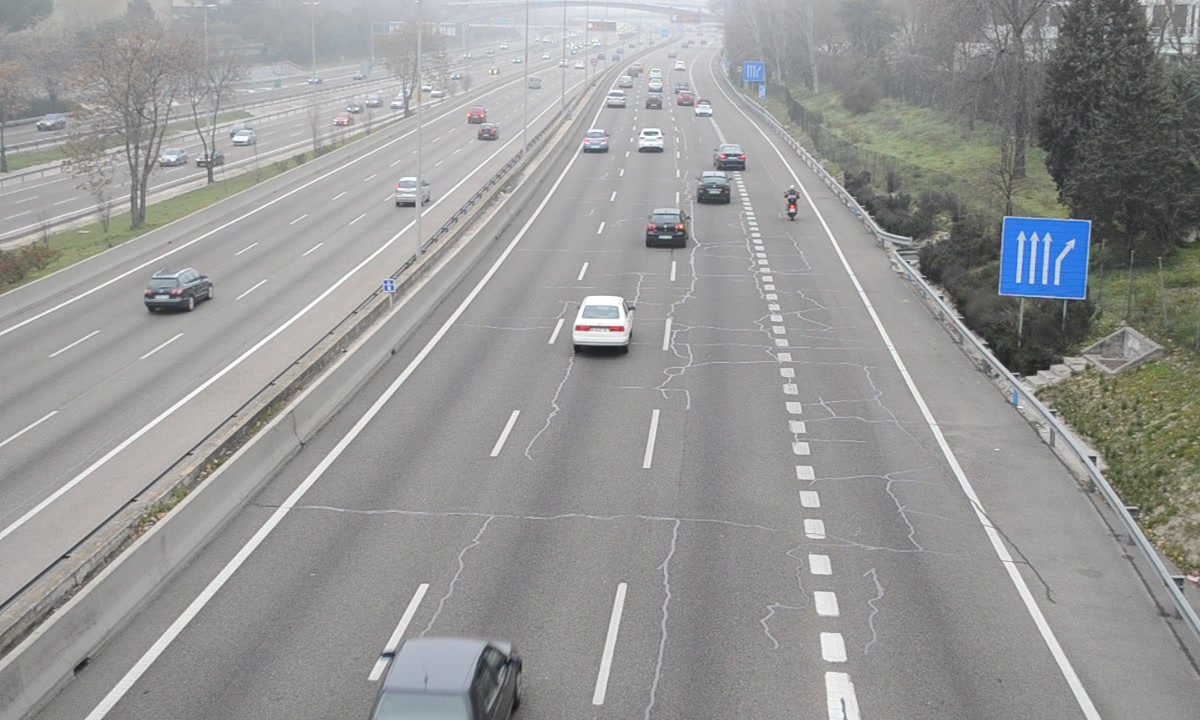car: (368, 635, 521, 718), (572, 295, 634, 349), (646, 209, 689, 249), (697, 171, 731, 205), (715, 143, 748, 170), (637, 127, 666, 153), (582, 129, 609, 153)
motorcycle: (785, 186, 803, 223)
